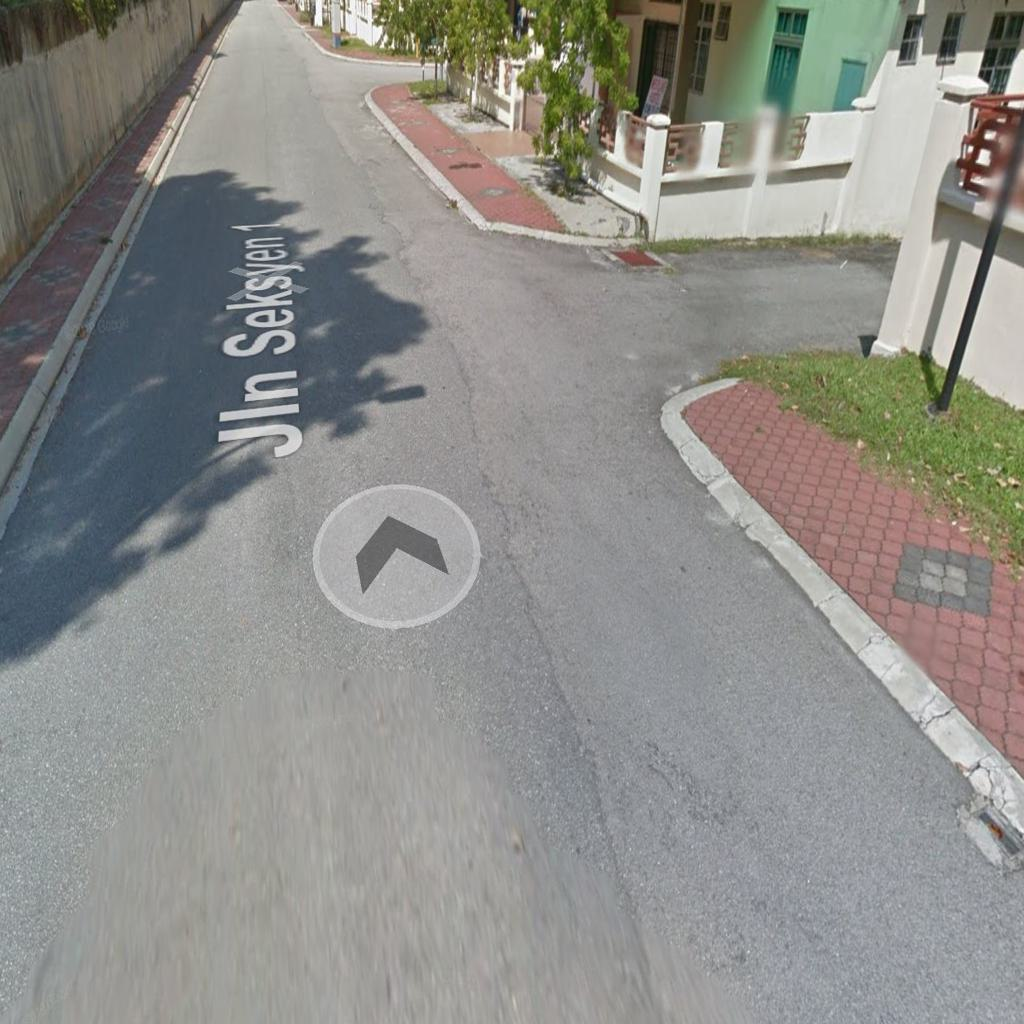Junction: (481, 195, 863, 421), (331, 43, 446, 100)
